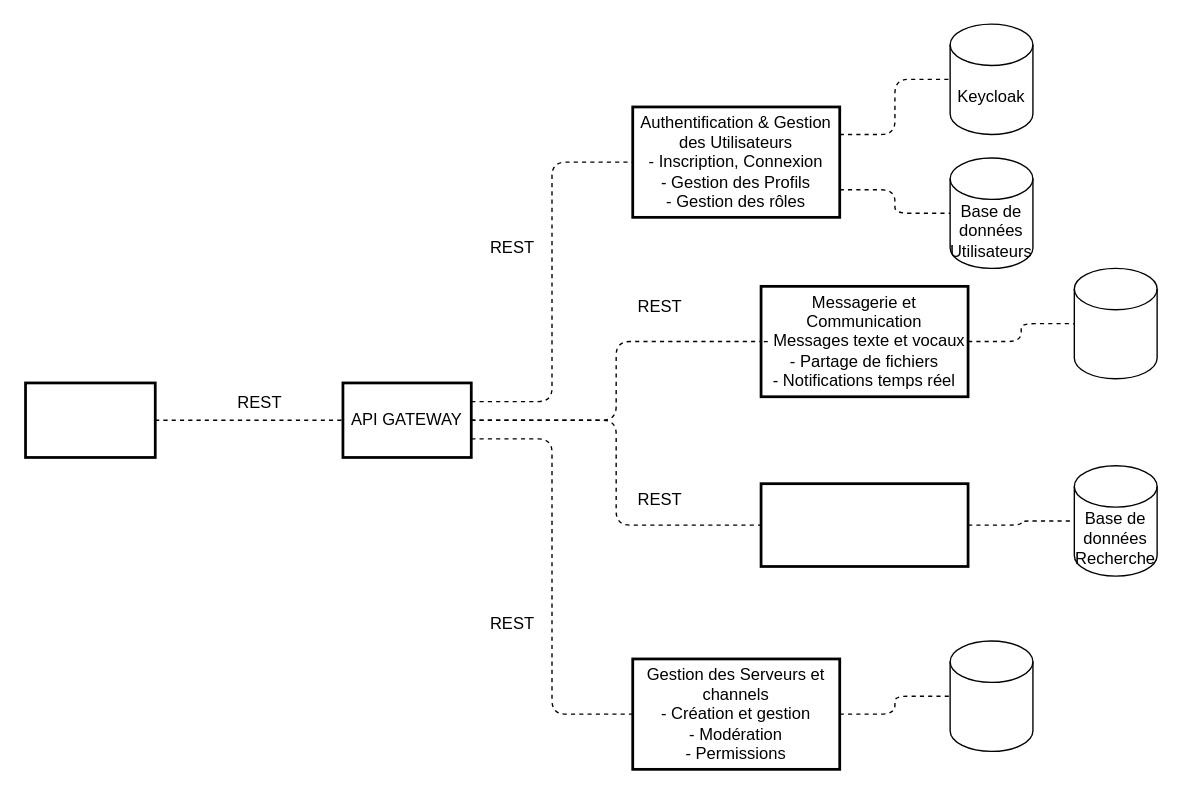
Image size: 1181x795. Some labels were removed from this diagram. Each missing label, with the centre of its shape:
Base de données Messages: the point at 1115,323
Base de données Serveurs: the point at 991,695
Recherche & Indexation - Moteur de recherche - Messages et fichiers: the point at 864,524
Web App: the point at 89,419
